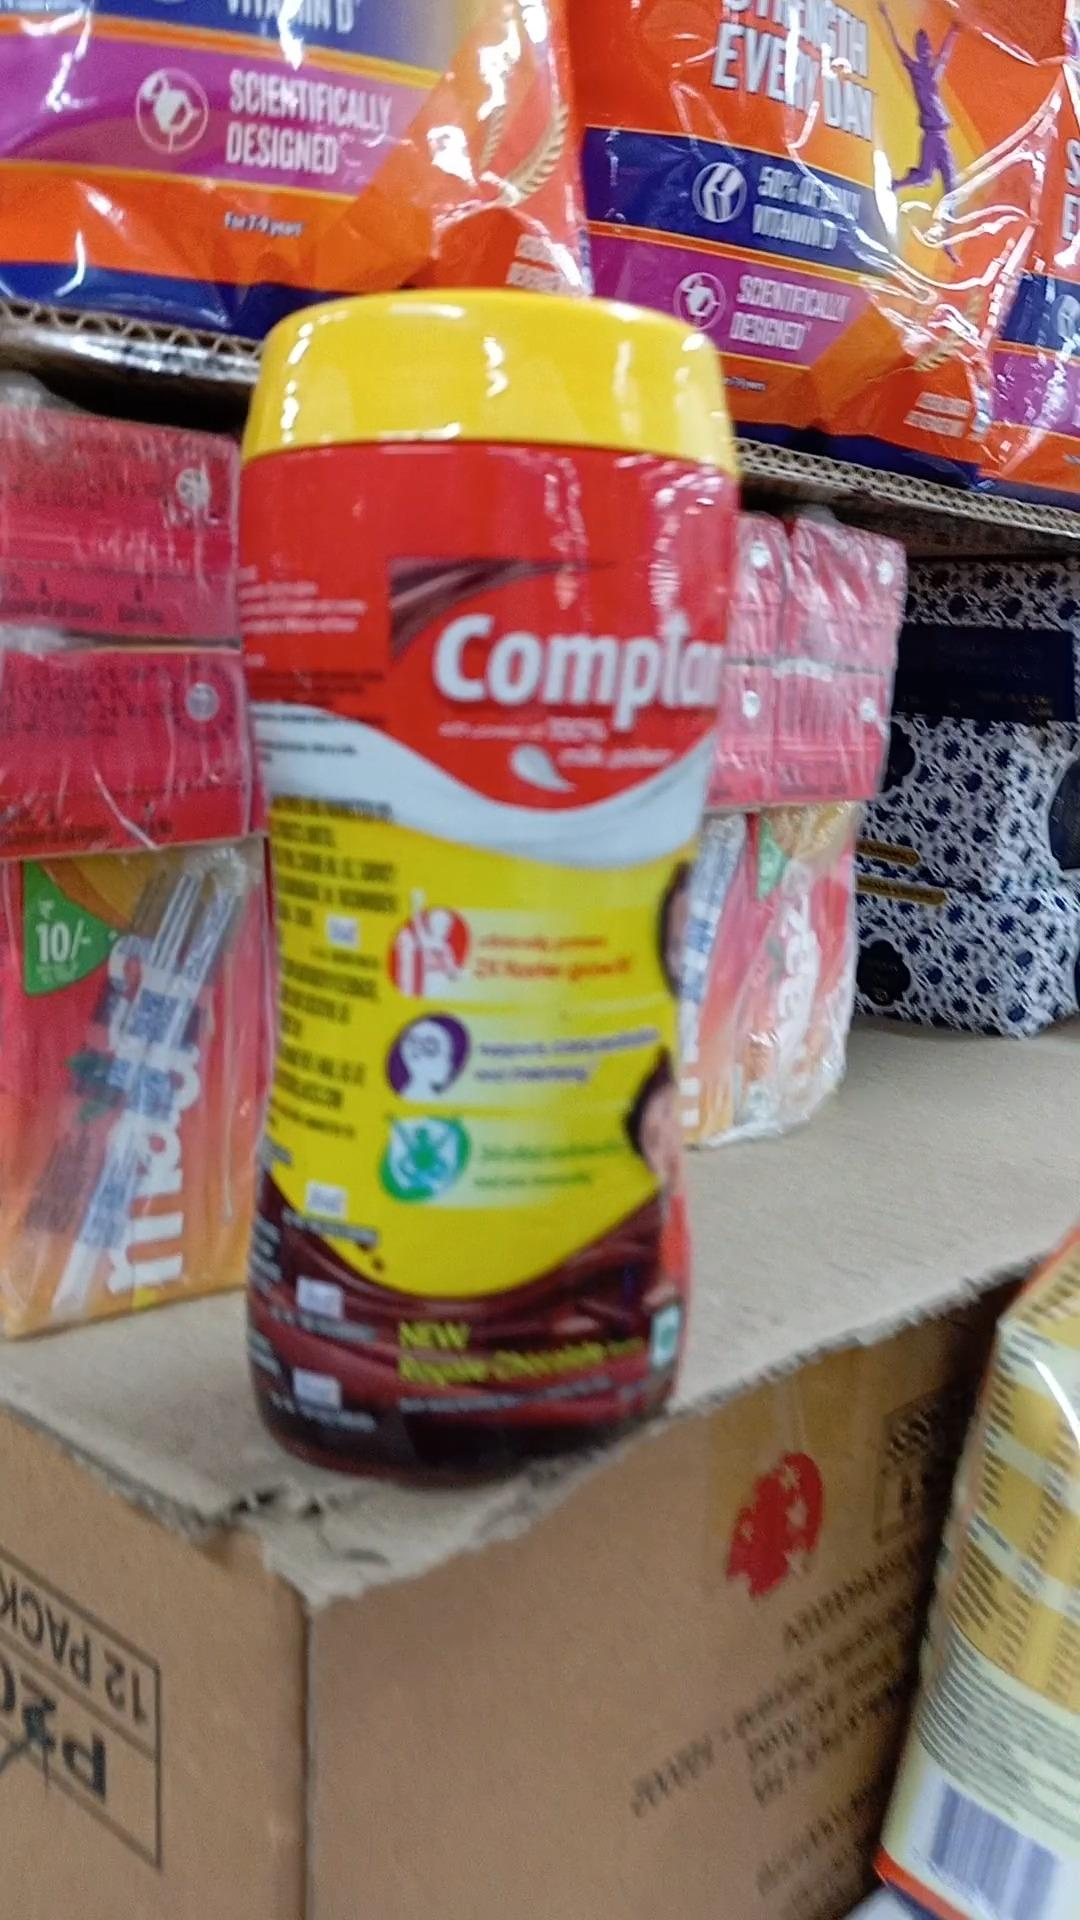COMPLAN_CHOCOLATE_200_GMS_JAR: (235, 305, 709, 1476)
